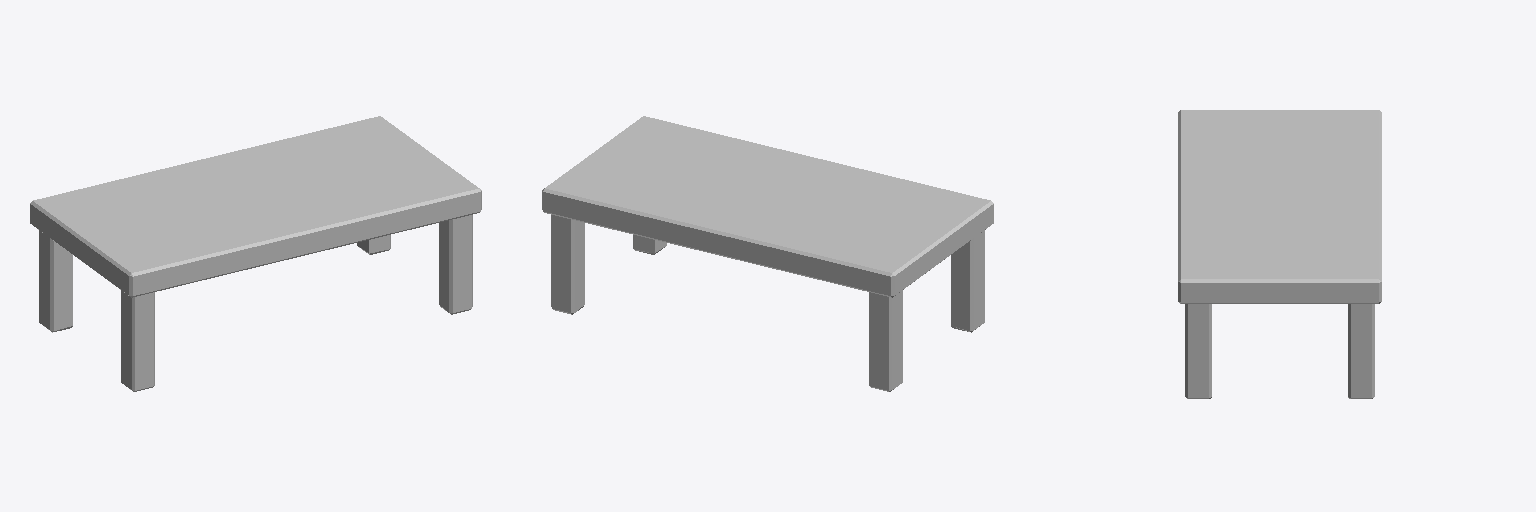
Rendered from table_medium_long.obj.
The picture shows the model from 3 angles: view 1: azimuth 30°, elevation 25°; view 2: azimuth 150°, elevation 25°; view 3: azimuth 270°, elevation 25°; orthographic projection.
Parts seen in each view (by area): view 1: table_medium_long_Cube.16117; view 2: table_medium_long_Cube.16117; view 3: table_medium_long_Cube.16117.
Boxes of the visible parts, x1=… form: table_medium_long_Cube.16117: x1=30, y1=116, x2=481, y2=391; table_medium_long_Cube.16117: x1=542, y1=116, x2=993, y2=391; table_medium_long_Cube.16117: x1=1178, y1=110, x2=1381, y2=398.
Size of the model in its own units: 3 by 1 by 1.5.